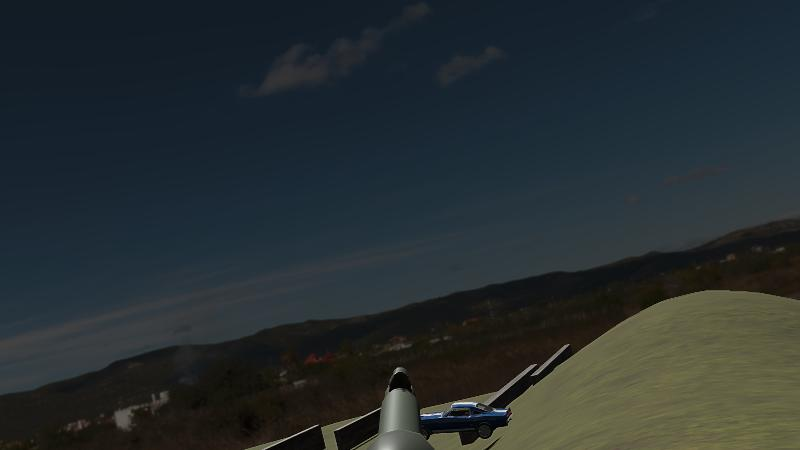car: (415, 400, 514, 445)
